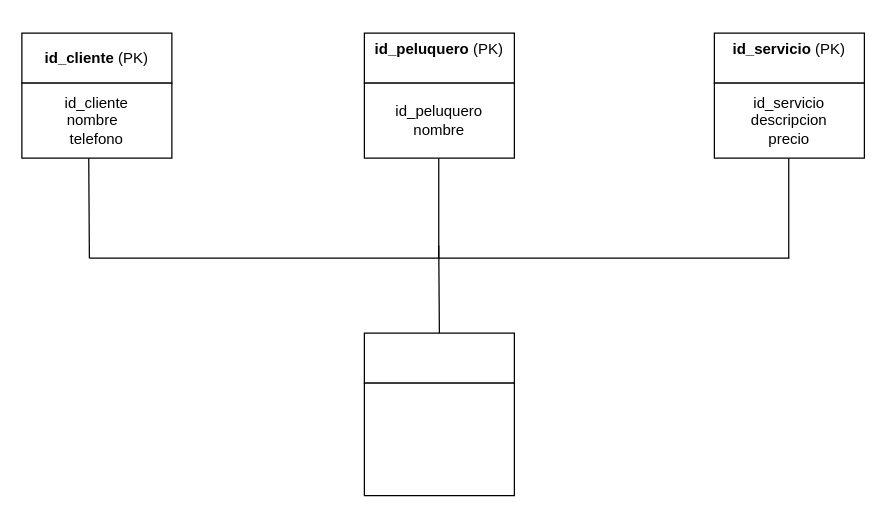
This 886x518 diagram has some shape labels left out. Each missing label, with the centre of its shape:
"id_turno (PK)" belongs at point (438, 357).
"id_turno fecha_hora id_cliente id_peluquero id_servicio" belongs at point (438, 439).
